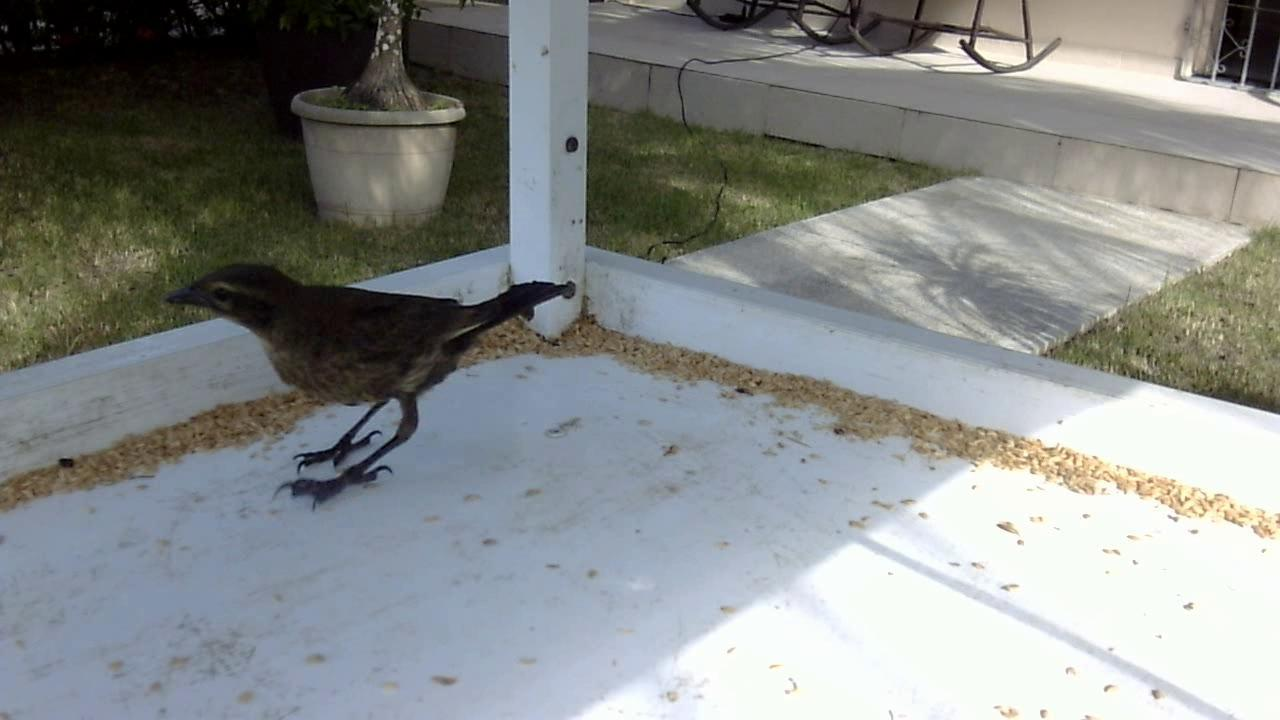chupim: (159, 250, 573, 516)
